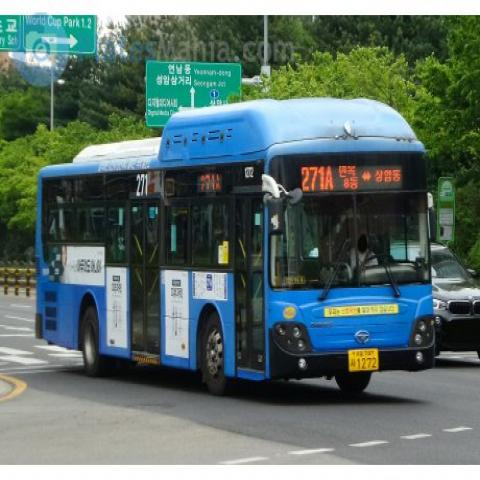LP: (340, 340, 385, 374)
